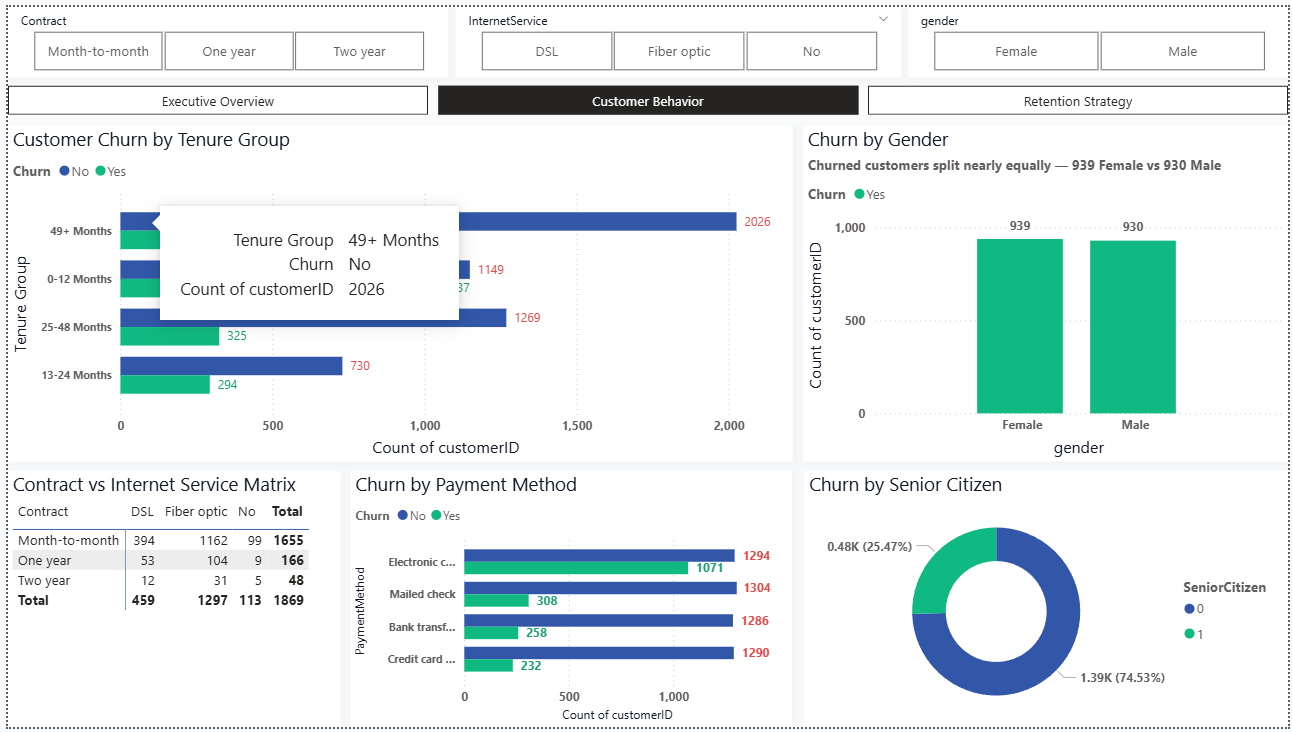

The dashboard page shown, as its layout file describes it:
{"tool":"powerbi","page":{"name":"Customer Behavior","canvas":[1280,720],"ordinal":1},"visuals":[{"type":"clusteredBarChart","title":"Customer Churn by Tenure Group","fields":{"Category":["churn_raw xlsx.Tenure Group"],"Series":["churn_raw xlsx.Churn"],"Y":["CountNonNull(churn_raw xlsx.customerID)"]},"box":[0,118.2,784.5,336.4],"z":0},{"type":"clusteredBarChart","title":"Churn by Payment Method","fields":{"Category":["churn_raw xlsx.PaymentMethod"],"Series":["churn_raw xlsx.Churn"],"Y":["CountNonNull(churn_raw xlsx.customerID)"]},"box":[342.9,464.3,441.4,257.1],"z":1000},{"type":"donutChart","title":"Churn by Senior Citizen","fields":{"Category":["churn_raw xlsx.SeniorCitizen"],"Series":["churn_raw xlsx.Churn"],"Y":["CountNonNull(churn_raw xlsx.customerID)"]},"box":[795.7,464.3,484.3,257.1],"z":2000},{"type":"pivotTable","title":"Contract vs Internet Service Matrix","fields":{"Columns":["churn_raw xlsx.InternetService"],"Rows":["churn_raw xlsx.Contract"],"Values":["churn_raw xlsx.Churn Customers"]},"box":[0,464.3,332.9,257.1],"z":3000},{"type":"clusteredColumnChart","title":"Churn by Gender","fields":{"Category":["churn_raw xlsx.gender"],"Series":["churn_raw xlsx.Churn"],"Y":["CountNonNull(churn_raw xlsx.customerID)"]},"box":[795.5,118.2,484.5,336.4],"z":4000},{"type":"slicer","title":"High Risk Segment Table","fields":{"Values":["churn_raw xlsx.Contract"]},"box":[0,0,440,70],"z":5000},{"type":"slicer","title":"High Risk Segment Table","fields":{"Values":["churn_raw xlsx.gender"]},"box":[900,0,380.9,70],"z":6000},{"type":"slicer","title":"High Risk Segment Table","fields":{"Values":["churn_raw xlsx.InternetService"]},"box":[447.3,0,445.5,70],"z":7000},{"type":"pageNavigator","box":[0,79.1,1280,30],"z":8000}]}

Visuals, with their boxes in screenshot pixels (x1, y1, x2, y2), scaled from the page's 1280x720 canvas onto the 1292x732 screenshot:
"Customer Churn by Tenure Group" clusteredBarChart: (0,120,792,462)
"Churn by Payment Method" clusteredBarChart: (346,472,792,731)
"Churn by Senior Citizen" donutChart: (803,472,1291,731)
"Contract vs Internet Service Matrix" pivotTable: (0,472,336,731)
"Churn by Gender" clusteredColumnChart: (803,120,1291,462)
"High Risk Segment Table" slicer: (0,0,444,71)
"High Risk Segment Table" slicer: (908,0,1291,71)
"High Risk Segment Table" slicer: (451,0,901,71)
pageNavigator: (0,80,1291,111)
